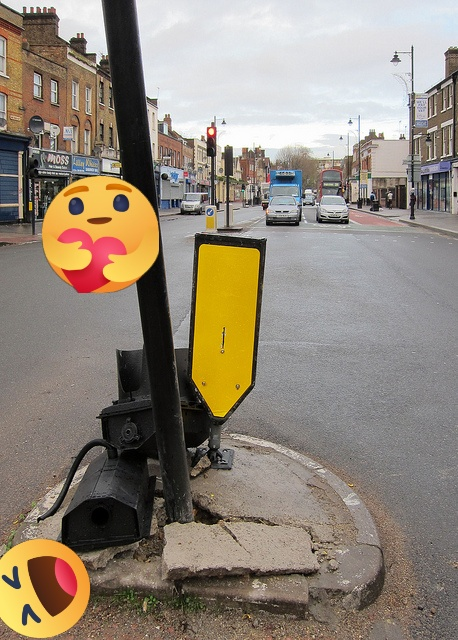care: (42, 176, 159, 293)
haha: (0, 539, 90, 638)
